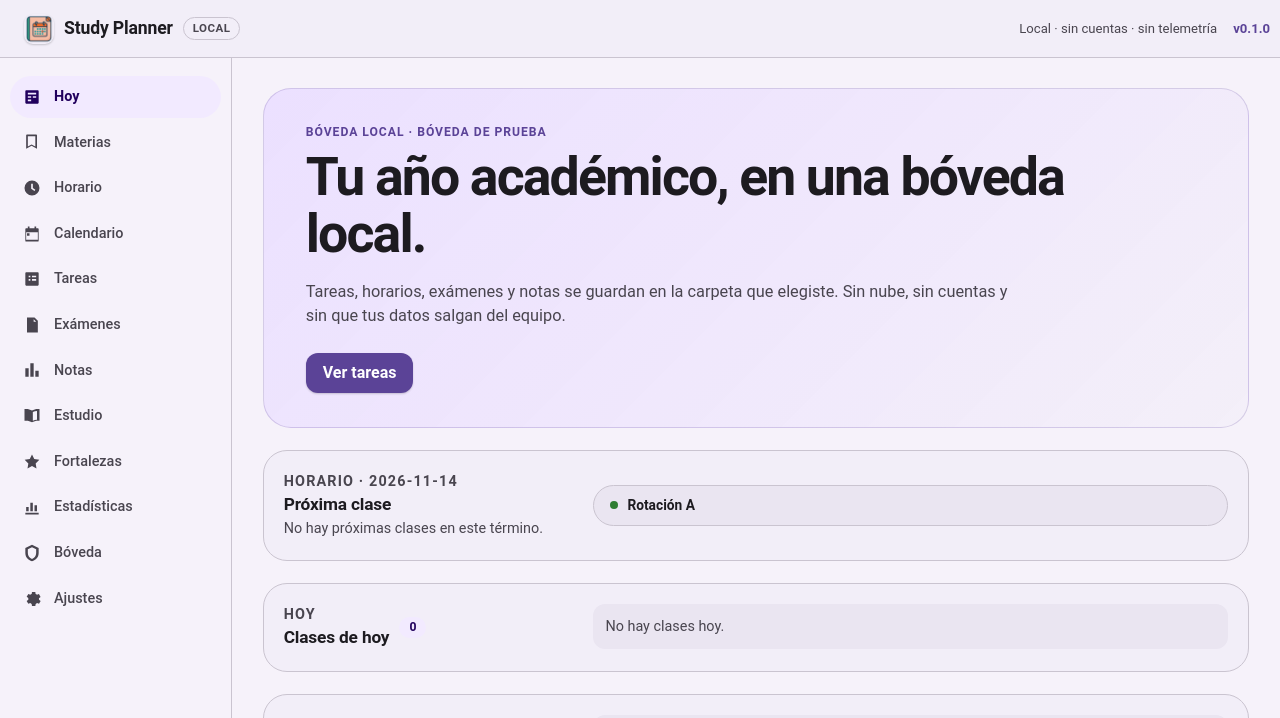
Test: App con IPC de Tauri › elimina una tarea
Click the button "Tareas": [116, 279] box [10,258,221,300]
(page scrolled)
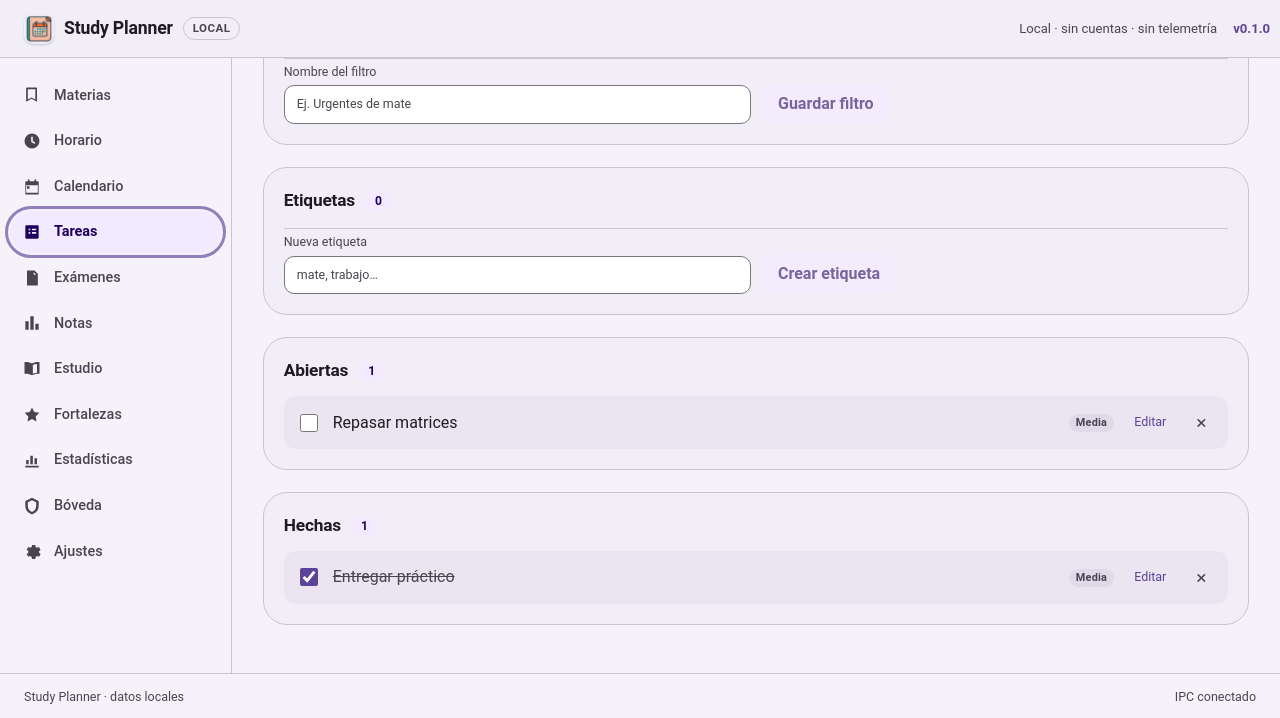
Click the button named "Eliminar «Repasar matrices»": [1201, 423] box [1186,408,1216,438]
(page scrolled)
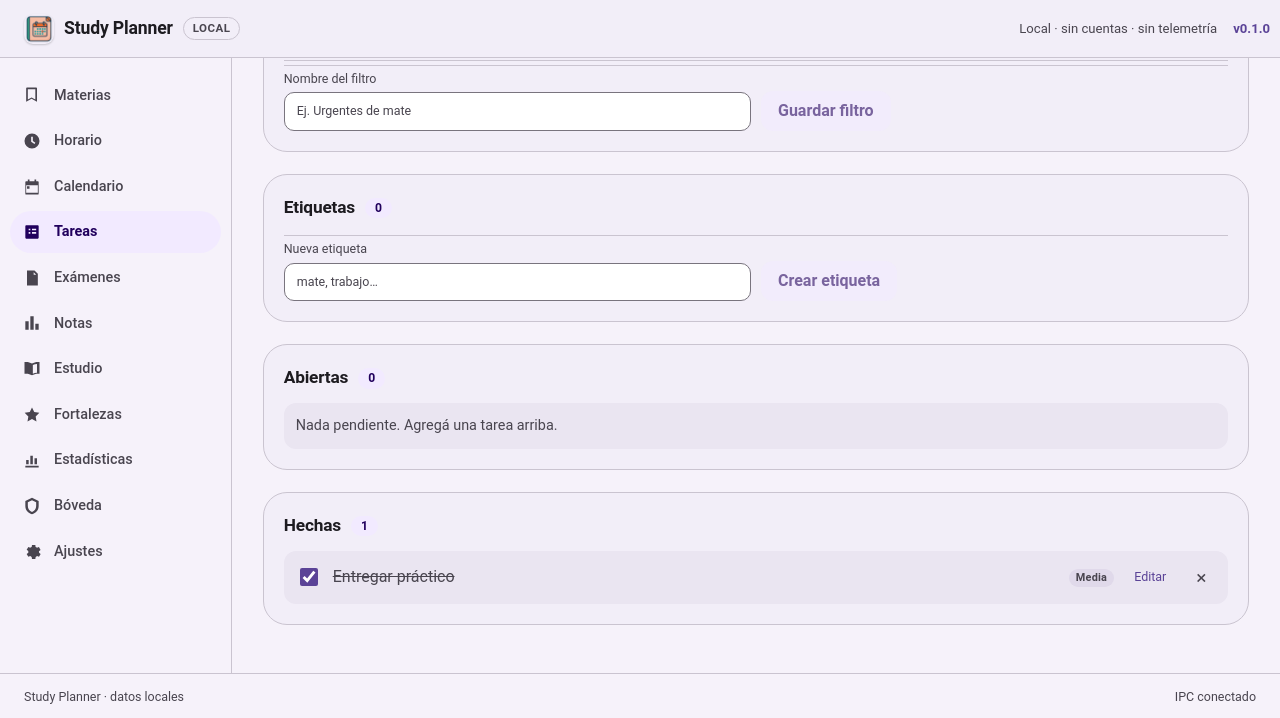
Expected: the text "Repasar matrices" is gone
